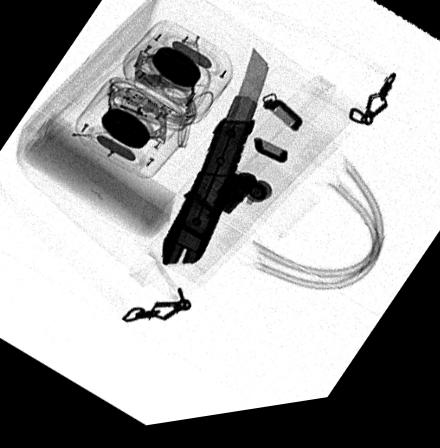Knife: (160, 54, 270, 273)
